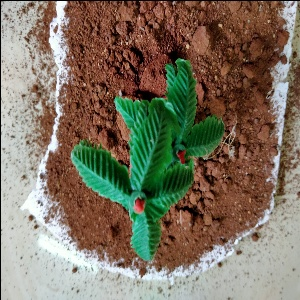plant: (68, 56, 228, 265)
